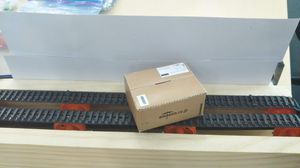box1: (122, 60, 207, 132)
